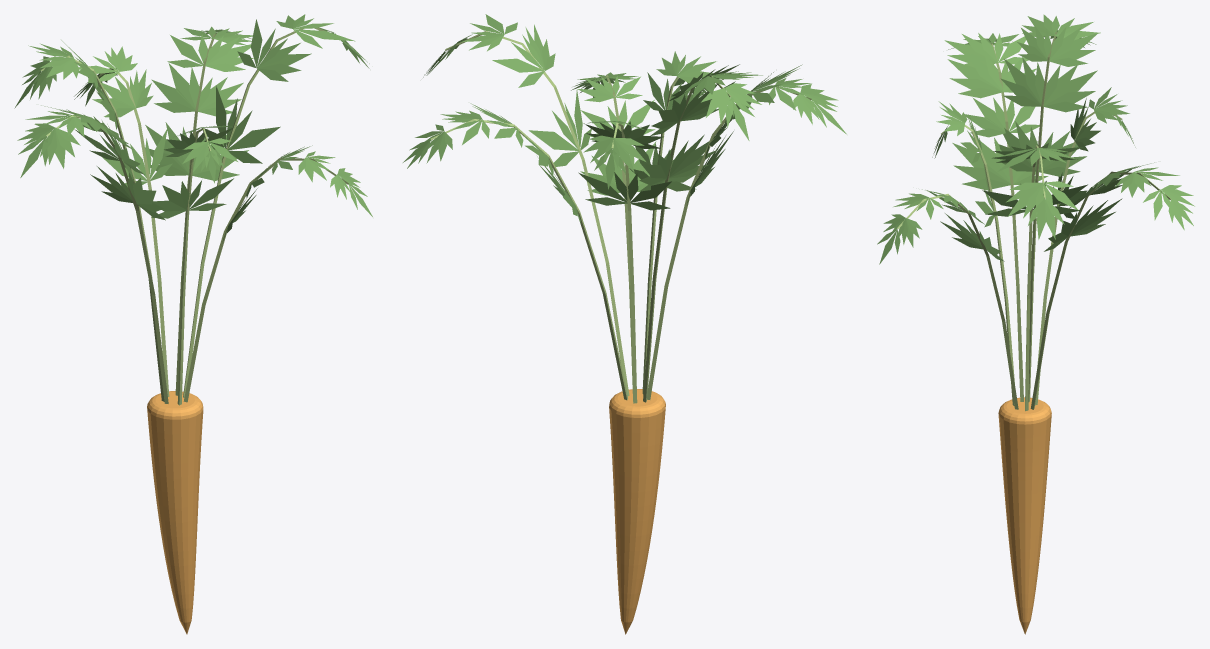
File: carrot_v13.glb
3 renders of one model, left to right at view 1: azimuth 30°, elevation 25°; view 2: azimuth 150°, elevation 25°; view 3: azimuth 270°, elevation 25°, orthographic. The views are drawn at different scales.
Parts seen in each view (by area): view 1: leaves, root, petioles; view 2: leaves, root, petioles; view 3: leaves, root, petioles.
Part boxes in pixels (x1,y1,x2,y2): leaves: (14, 14, 372, 241); root: (147, 391, 203, 634); petioles: (41, 28, 348, 405); leaves: (403, 14, 846, 223); root: (609, 389, 665, 634); petioles: (430, 31, 811, 403); leaves: (877, 14, 1194, 264); root: (998, 397, 1051, 634); petioles: (897, 32, 1171, 411).
Bounding box in the file's own units: 0.2759 × 0.4108 × 0.2109.
